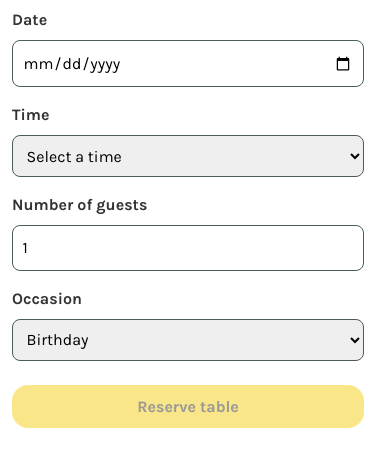
Test: shows an error for guests out of range
Replace the text in the number field labelled "Number of guests" with "15": x=188, y=248 x1=12 y1=225 x2=364 y2=271
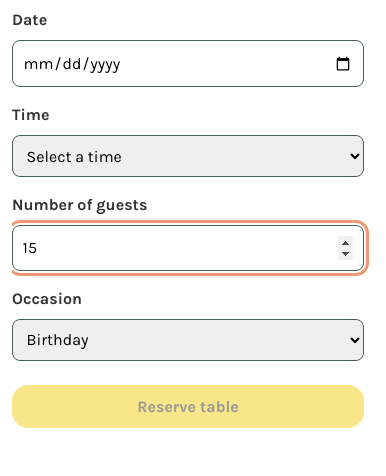
Press Tab
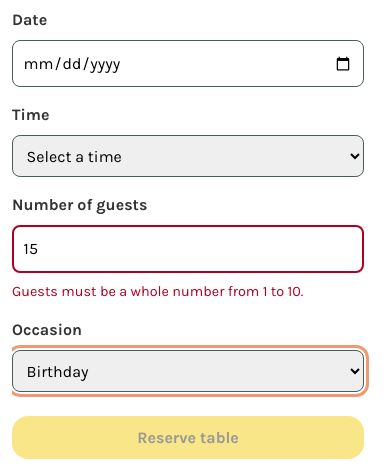
Check: the message shows "1 to 10", box x1=12 y1=283 x2=303 y2=300
